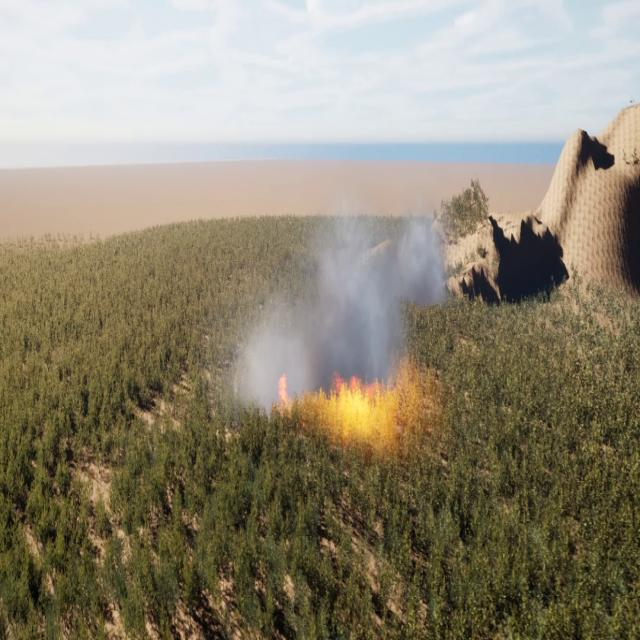fire: (274, 369, 423, 446)
smoke: (226, 201, 445, 425)
